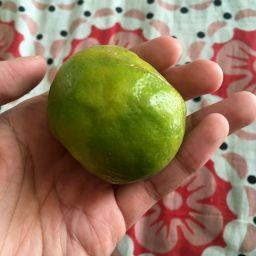Unripe: (49, 44, 189, 179)
